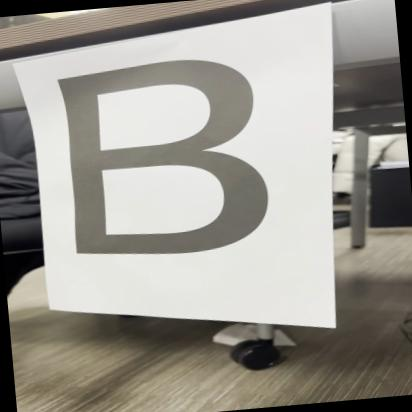seat: (31, 46, 316, 275)
